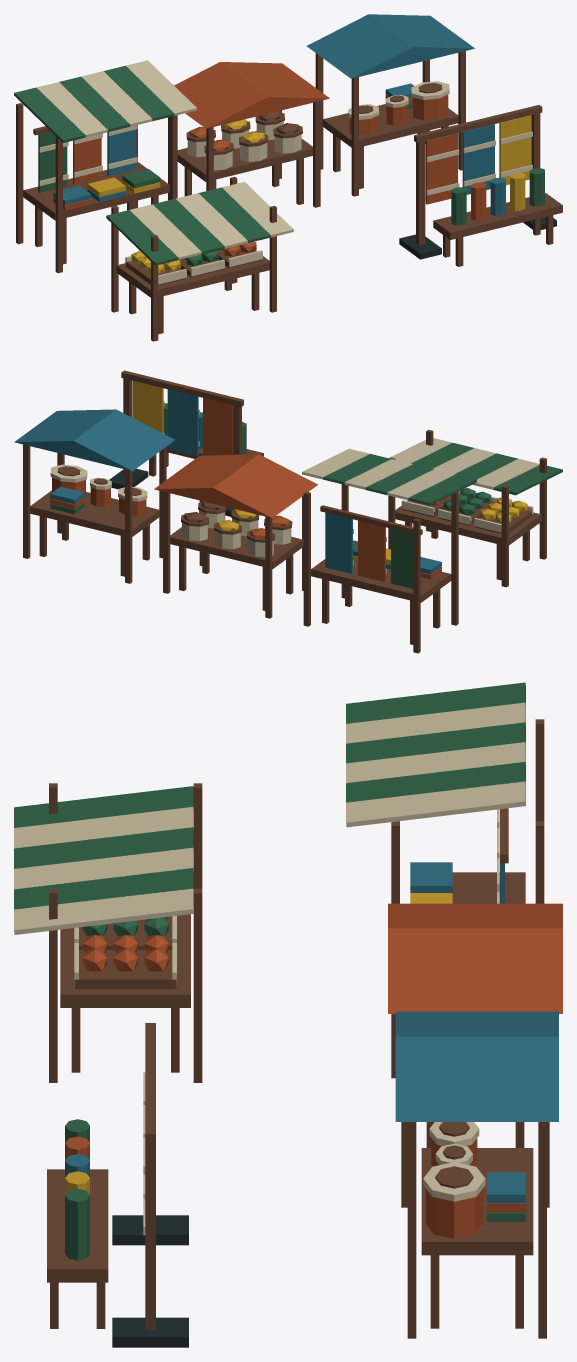
Rendered from accra.glb.
3 views of the same model, one above another, from view 1: azimuth 30°, elevation 25°; view 2: azimuth 150°, elevation 25°; view 3: azimuth 270°, elevation 25° (orthographic). The views are drawn at different scales.
Visible parts, largest first — view 1: accra; view 2: accra; view 3: accra.
Part boxes in pixels (x1=…): accra: x1=14, y1=14, x2=562, y2=341; accra: x1=14, y1=370, x2=562, y2=653; accra: x1=14, y1=682, x2=562, y2=1347.
Size of the model in its own units: 8.4 by 2.9 by 5.1.
